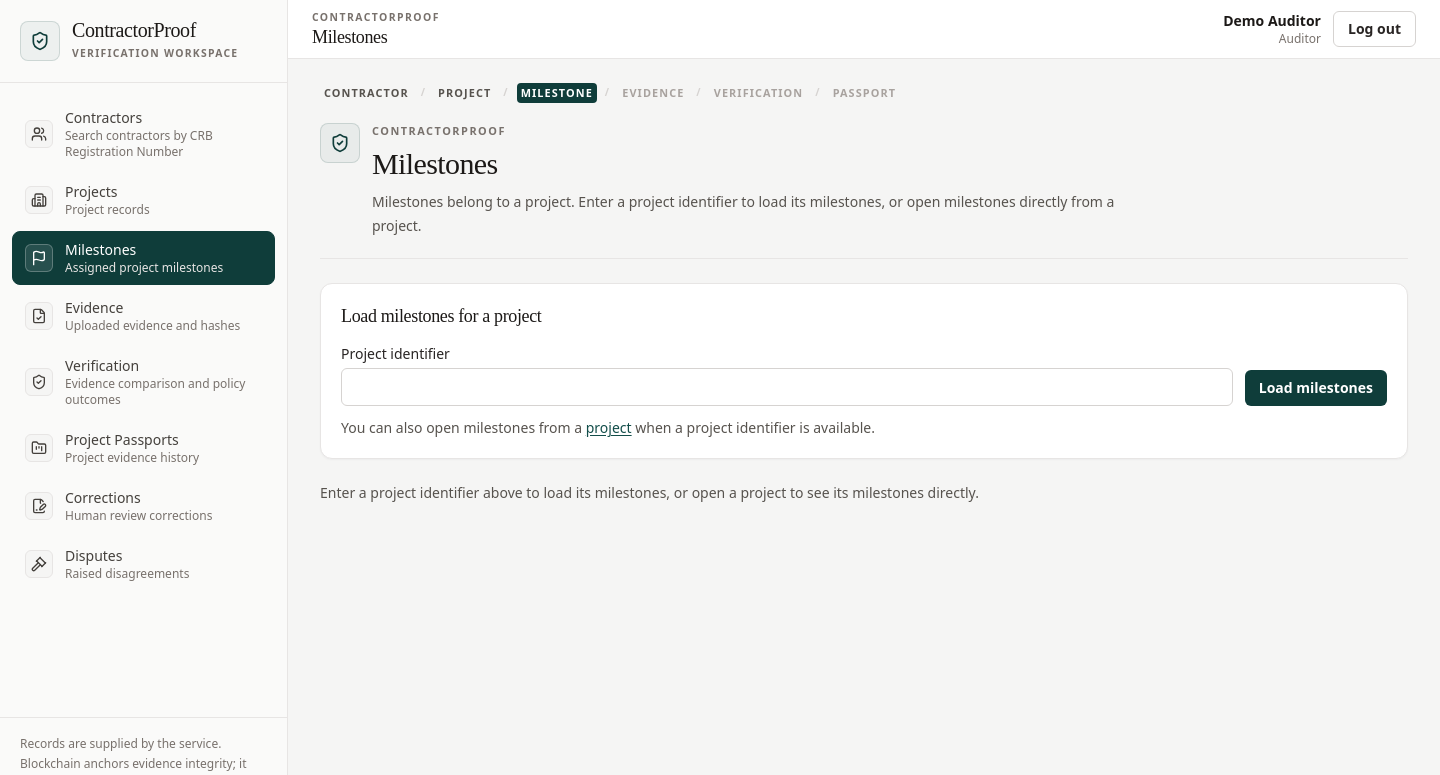
Scenario: milestones › renders returned milestone status exactly
The width and height of the screenshot is (1440, 775).
Type "p1" into the field labelled "Project identifier".
click(787, 388); type("p1")  # box [341,368,1233,406]
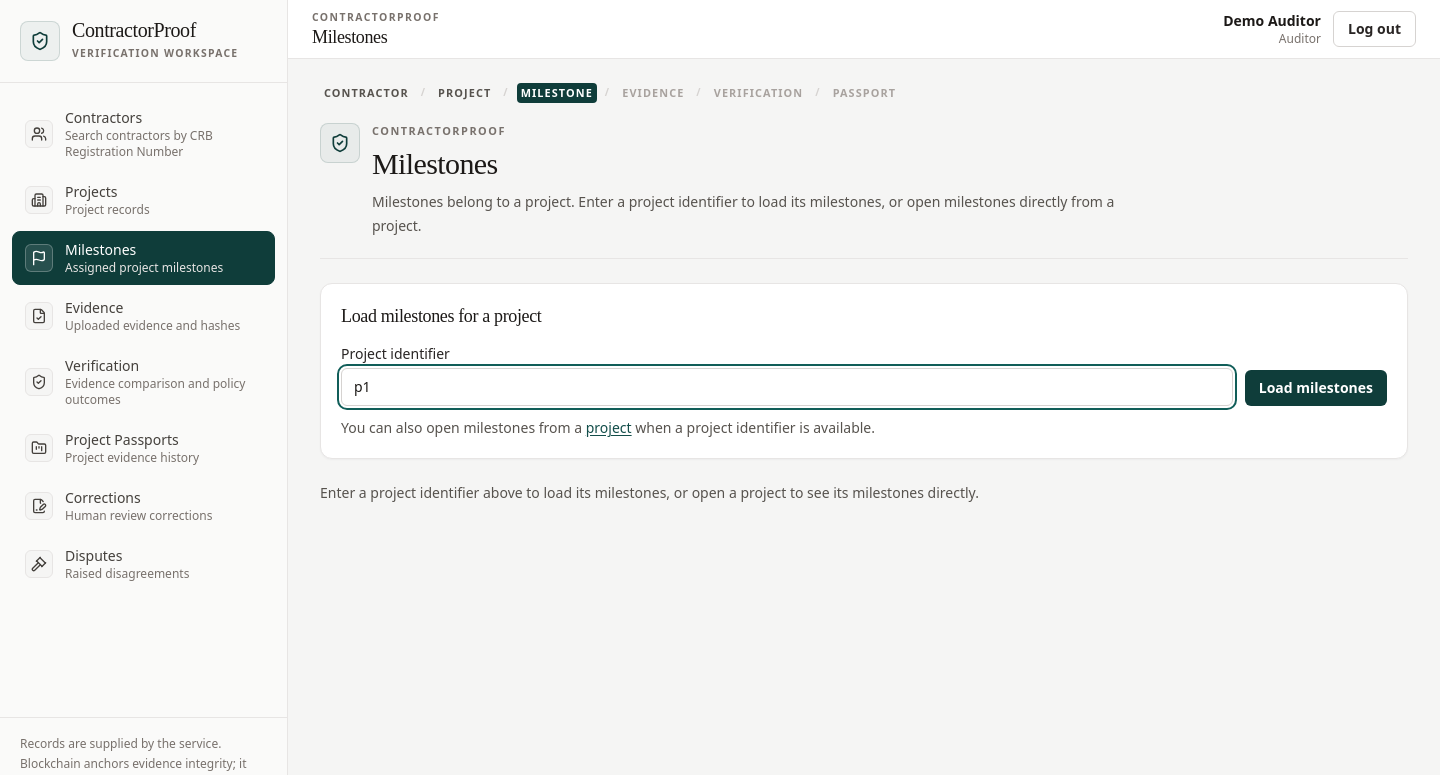
Click the button "Load milestones".
click(1316, 388)  # box [1245,370,1387,406]
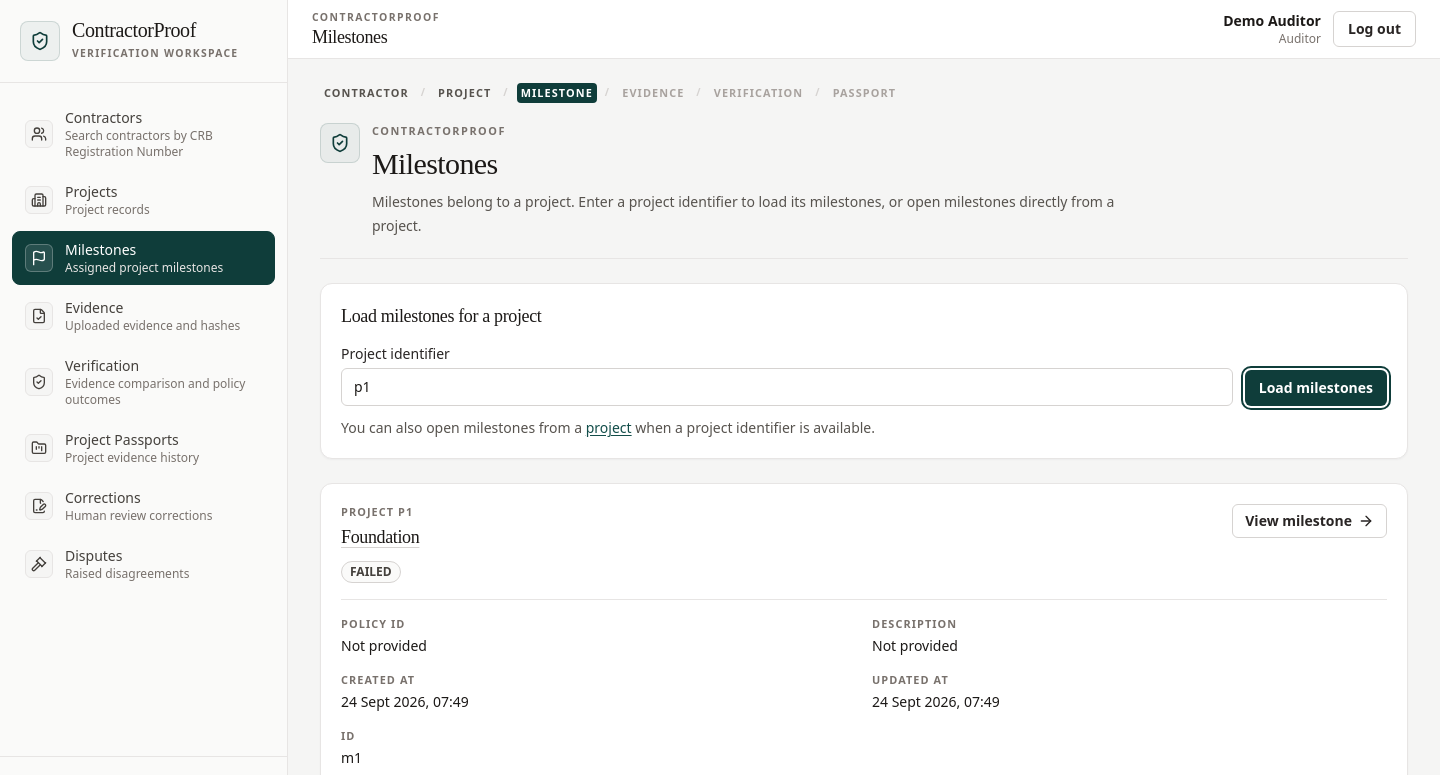
Now the link "Foundation" is shown, box [341,527,419,547]
Now the text "FAILED" is shown, box [350,564,392,580]
Now the text "Project p1" is shown, box [341,504,419,521]
